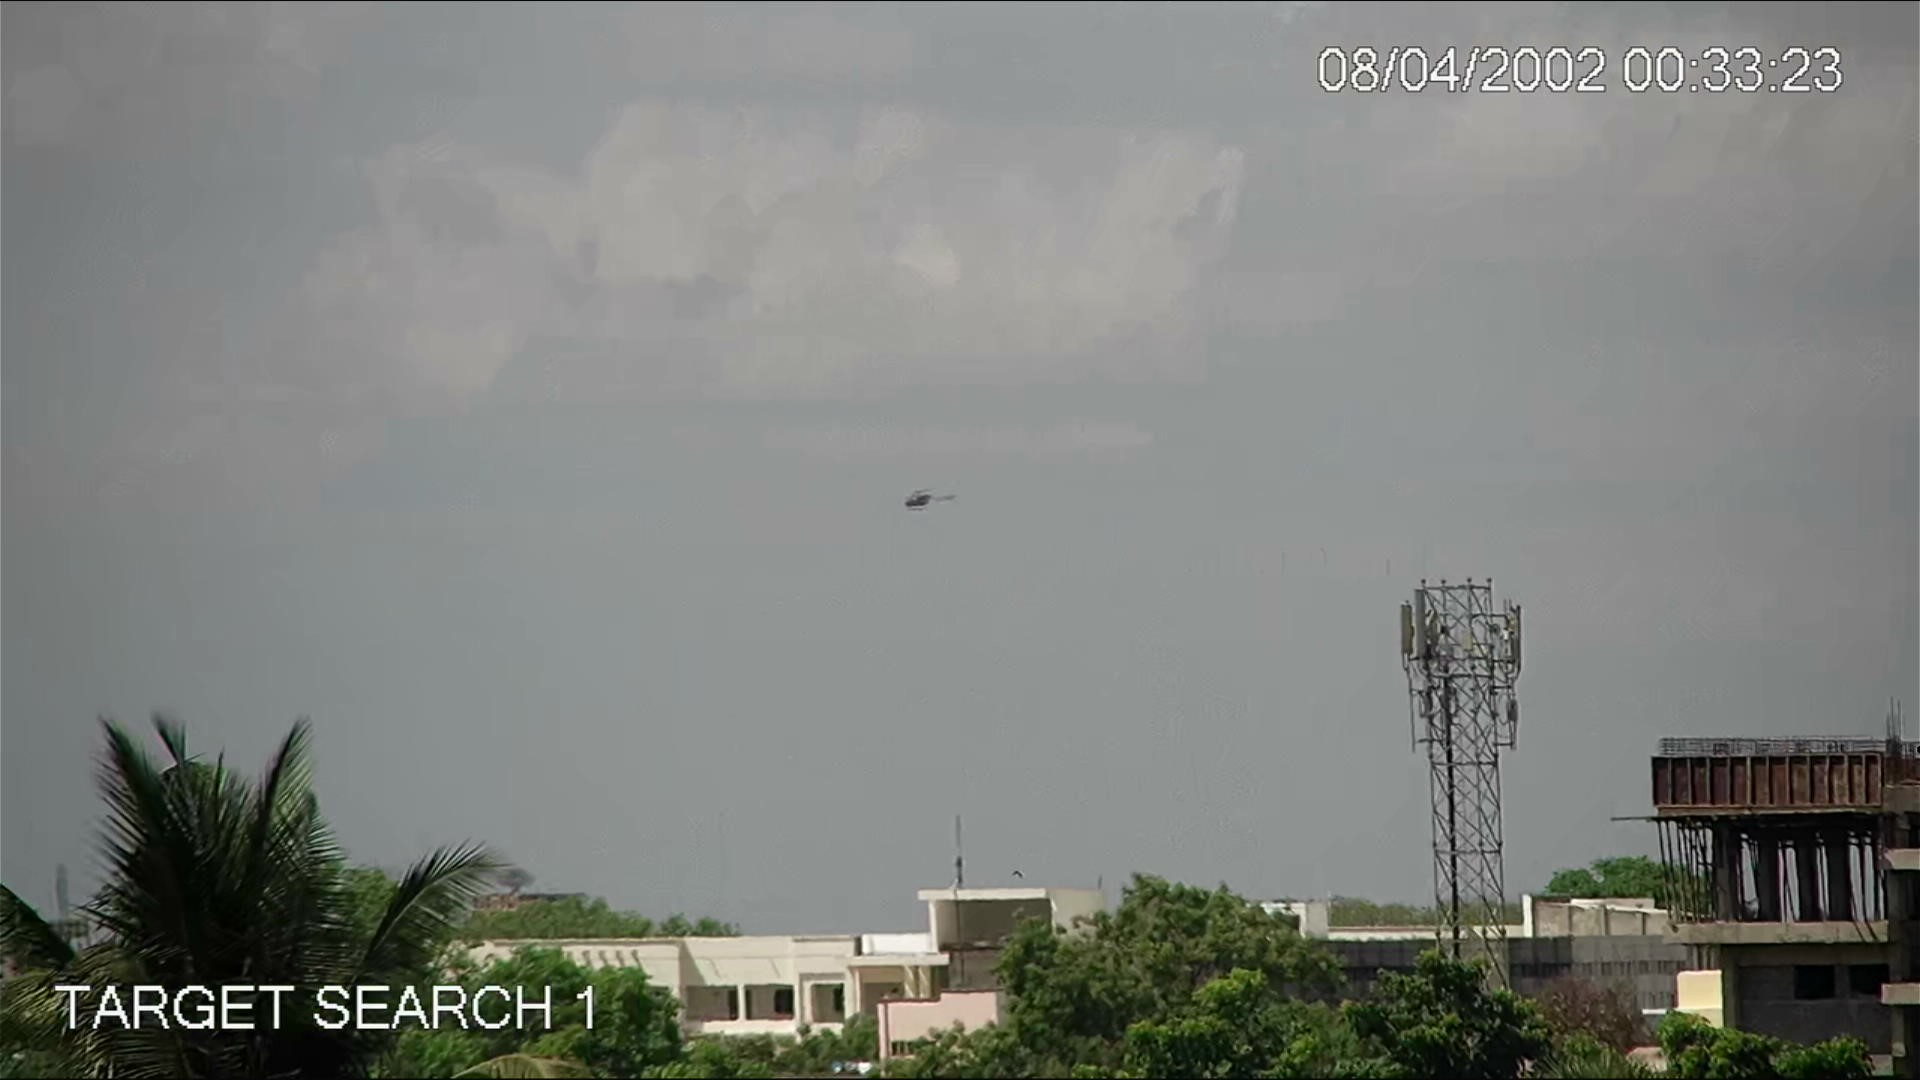SU_30: (895, 483, 961, 513)
